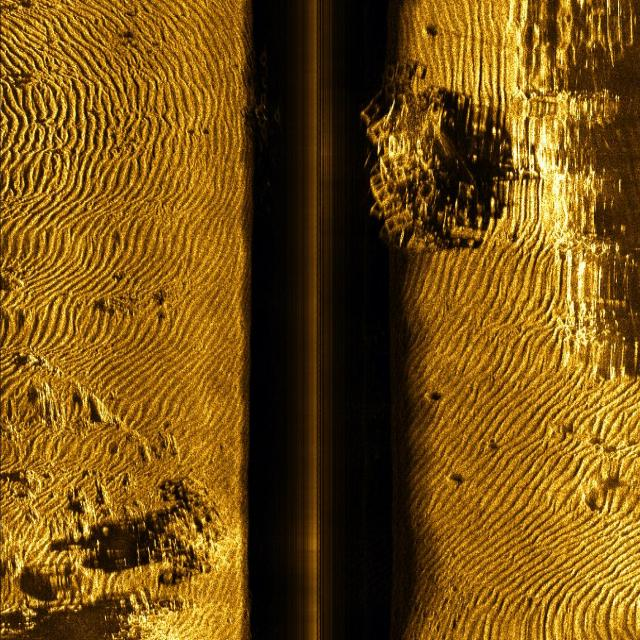artificial reef: (354, 45, 496, 250), (244, 45, 291, 154)
